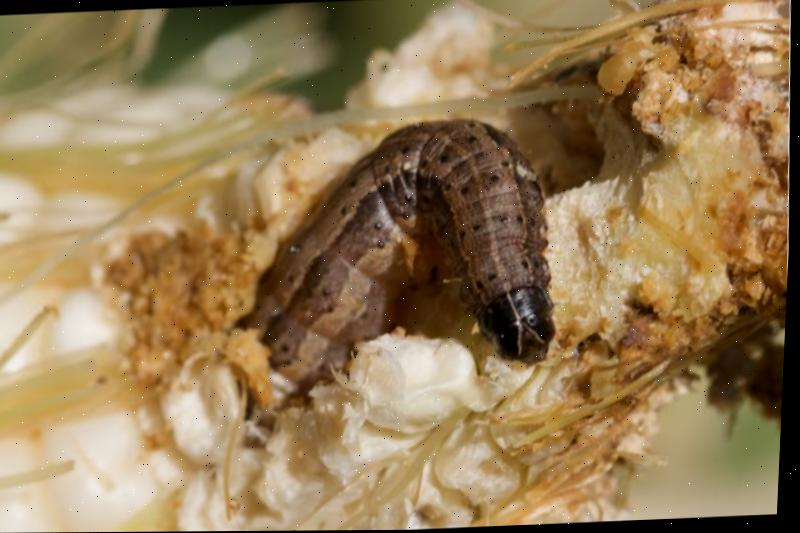fall-armyworm: (202, 120, 561, 430)
